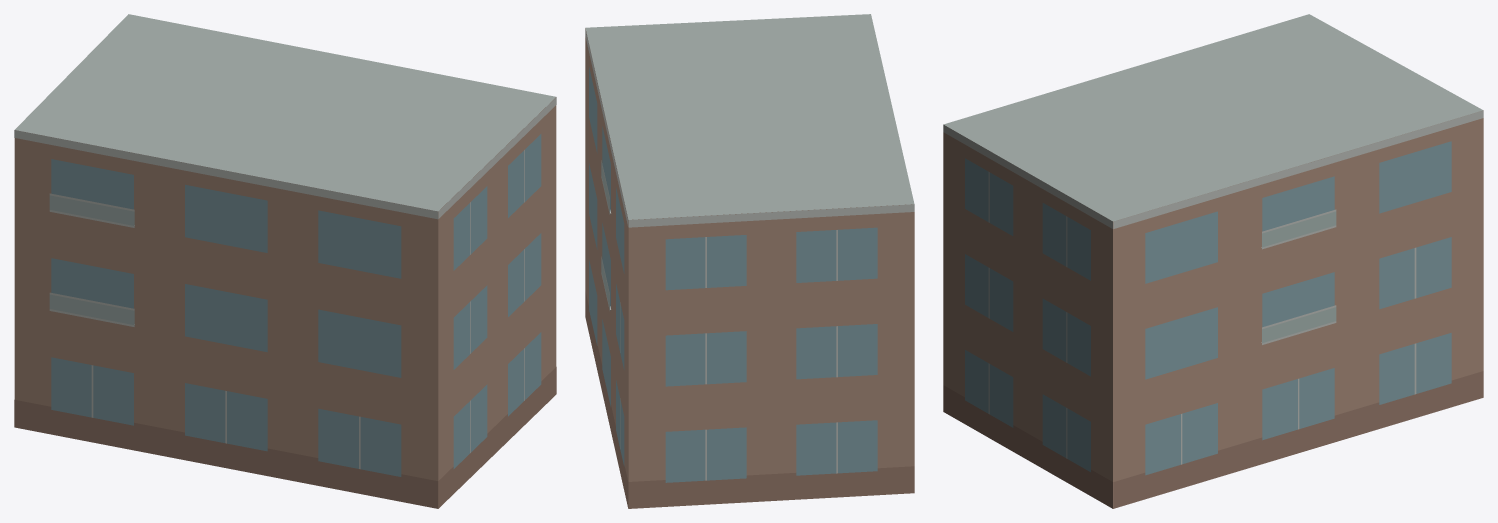
File: survey-upis-32693662.glb
3 views of the same model, side by side, from view 1: azimuth 30°, elevation 25°; view 2: azimuth 150°, elevation 25°; view 3: azimuth 270°, elevation 25° (orthographic). The views are drawn at different scales.
Visible parts, largest first — view 1: survey-upis-32693662.tmp; view 2: survey-upis-32693662.tmp; view 3: survey-upis-32693662.tmp.
Part boxes in pixels (left/top/right/bottom): survey-upis-32693662.tmp: left=14, top=14, right=556, bottom=508; survey-upis-32693662.tmp: left=585, top=14, right=914, bottom=508; survey-upis-32693662.tmp: left=943, top=14, right=1483, bottom=508.
Size of the model in its own units: 14.19 by 9.15 by 15.6.
